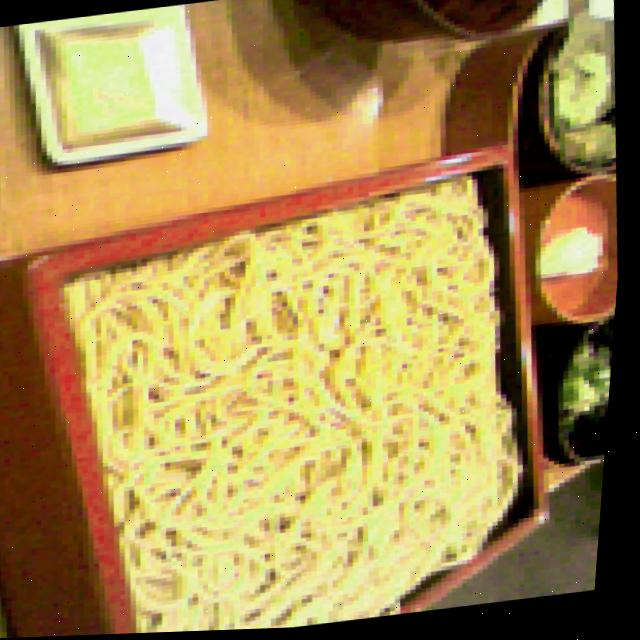面条主食: (0, 128, 601, 640)
